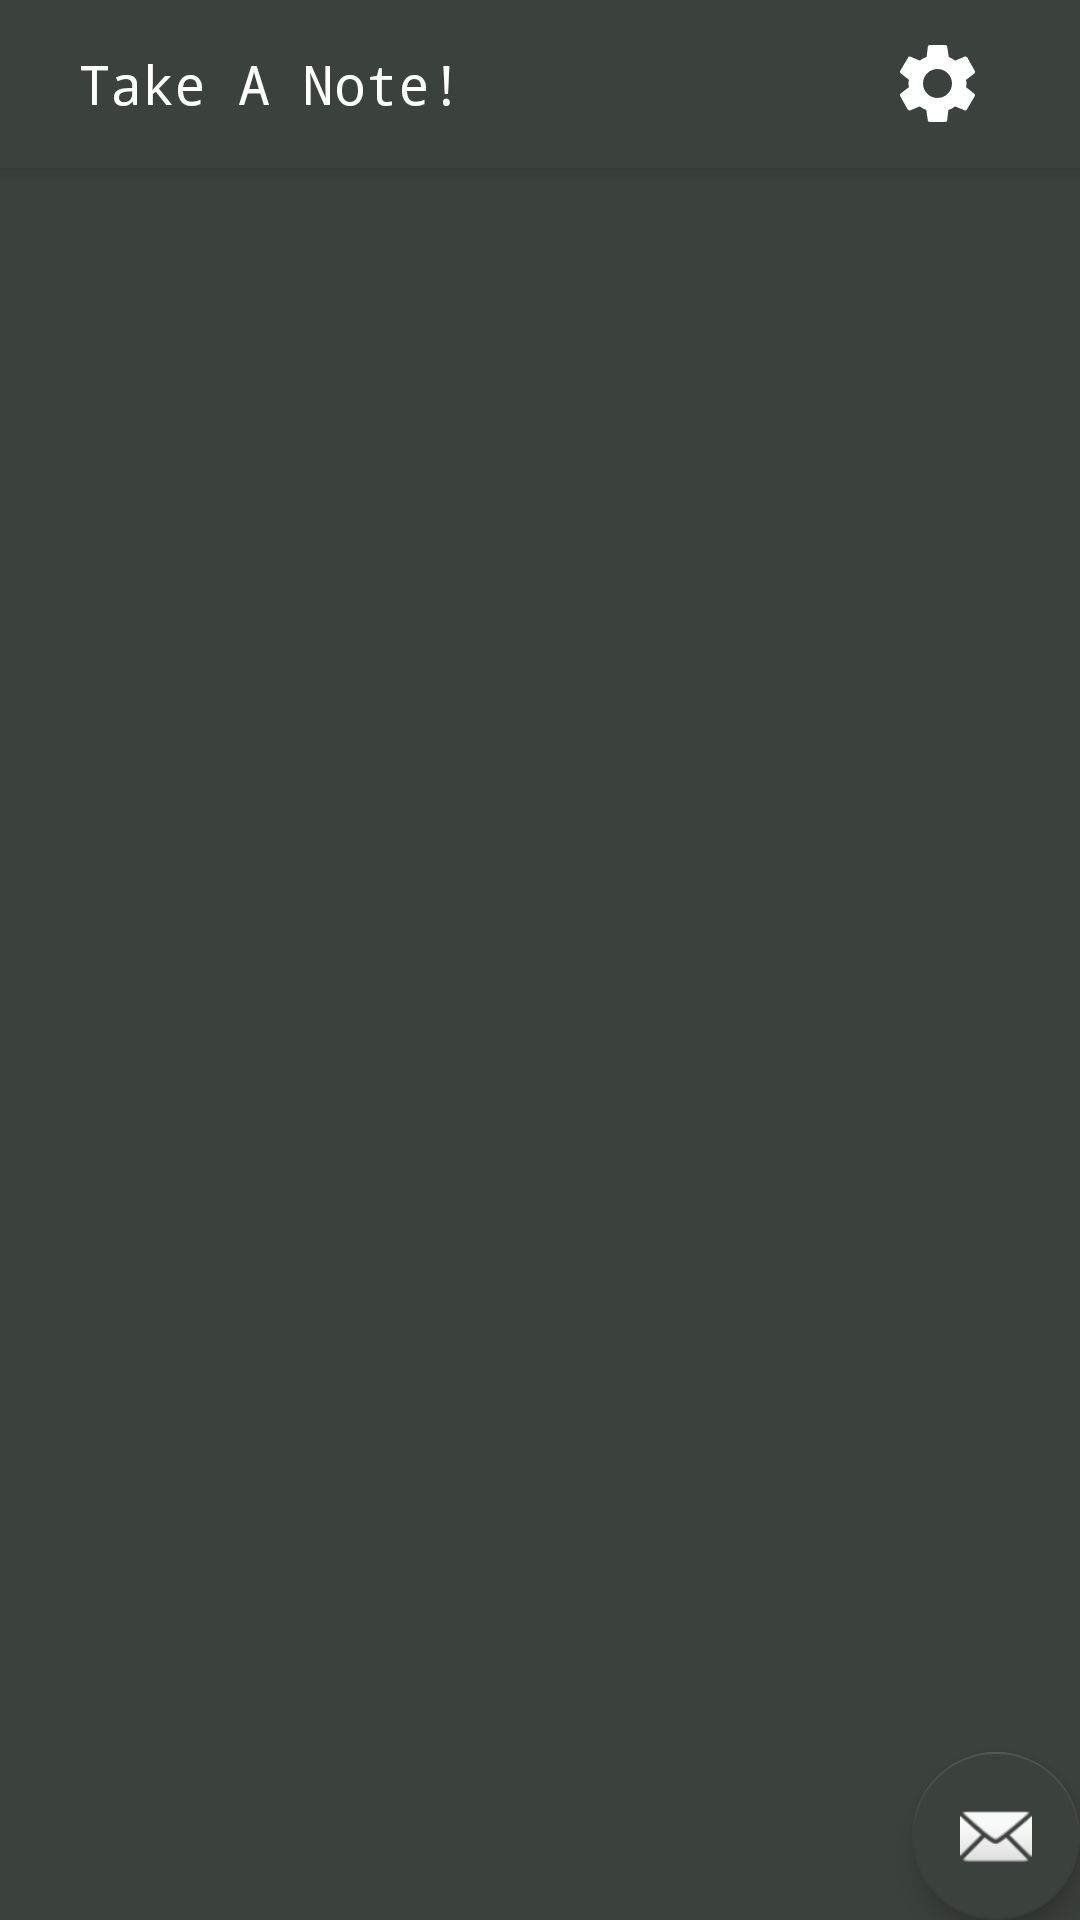

Icon click points for this 1080px x 1920px phone screenshot, format point (x, y):
settings: point (937, 83)
